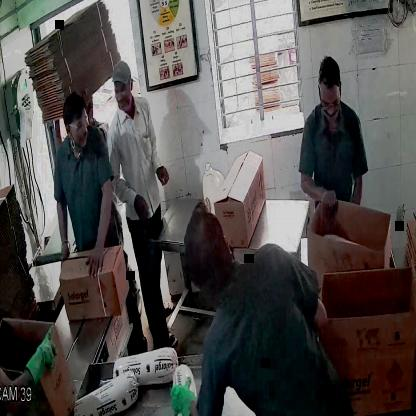goggles: (63, 112, 89, 136)
no_goggles: (110, 83, 134, 100)
